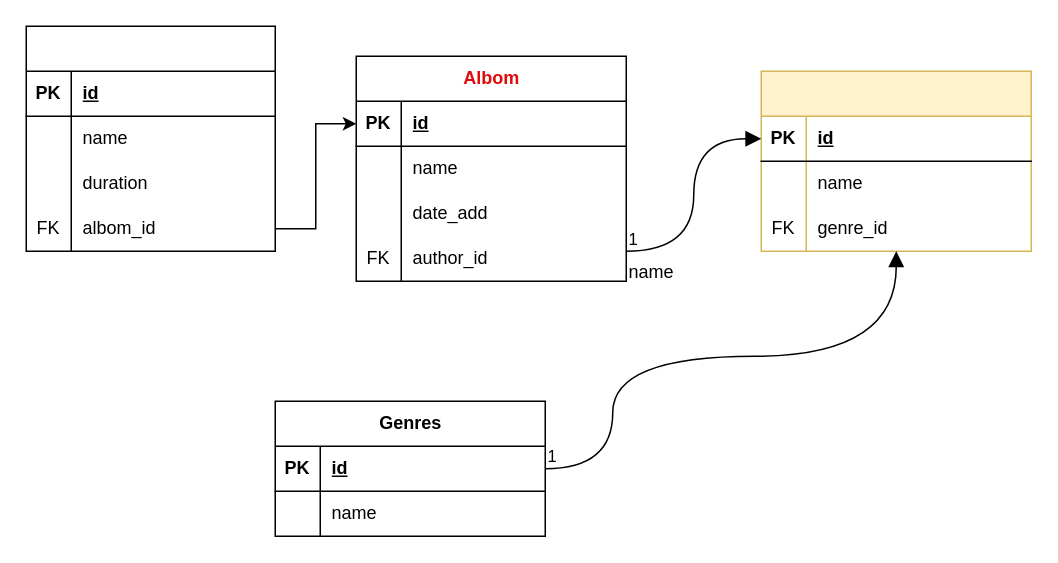
The diagram is 1058 pixels wide and 563 high, and some of its shapes have lost their labels. Each missing label, with the box of its shape:
Authors: (760, 70, 1031, 251)
Songs: (25, 25, 275, 251)
